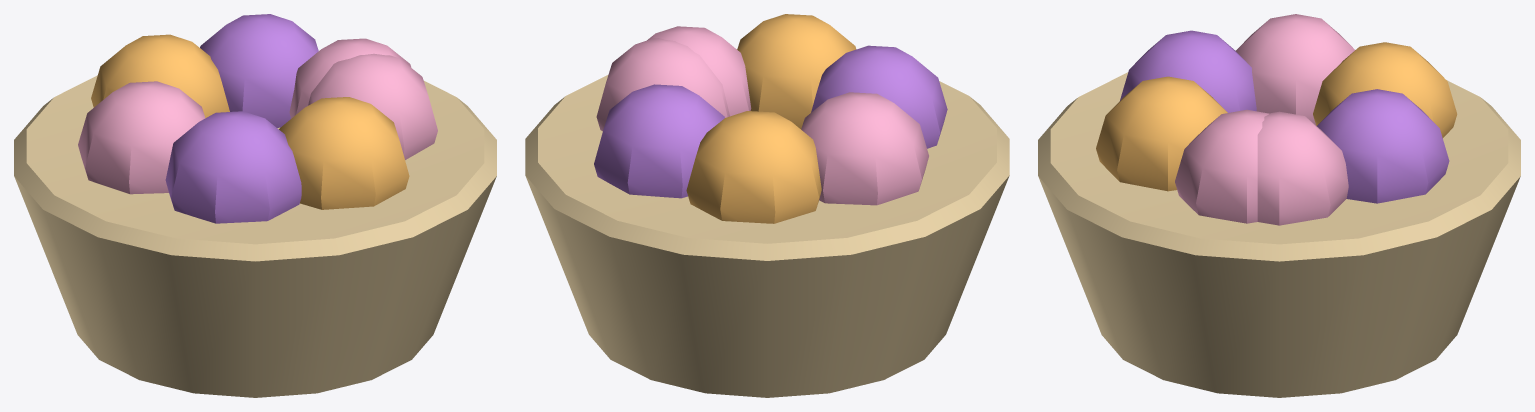
File: CandyBasket.fbx
3 renders of one model, left to right at view 1: azimuth 30°, elevation 25°; view 2: azimuth 150°, elevation 25°; view 3: azimuth 270°, elevation 25°, orthographic.
Visible parts, largest first — view 1: CandyBasket; view 2: CandyBasket; view 3: CandyBasket.
Boxes of the visible parts, x1,y1,x2,y2 form: CandyBasket: (14, 14, 496, 397); CandyBasket: (525, 14, 1009, 397); CandyBasket: (1038, 14, 1520, 397).
Bounding box in the file's own units: 1.9 × 1.08 × 1.87.
